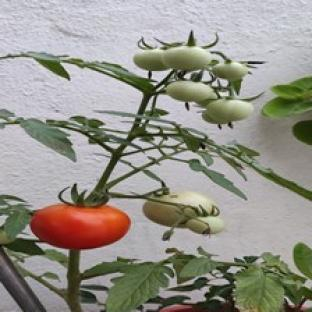Tomato: (31, 204, 130, 249), (143, 191, 215, 227), (162, 46, 211, 71), (202, 99, 253, 123), (166, 81, 215, 101), (134, 49, 168, 71), (186, 216, 224, 233), (212, 62, 247, 80), (159, 306, 208, 311), (0, 229, 15, 245), (202, 111, 222, 123)
